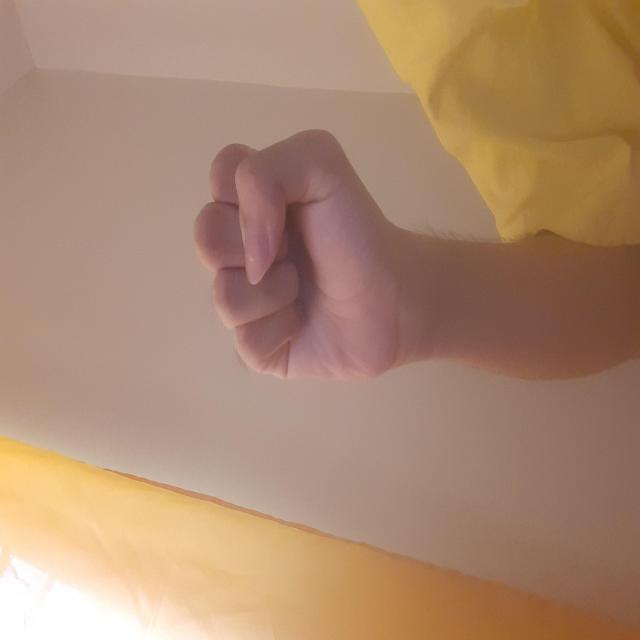S: (256, 193, 514, 396)
